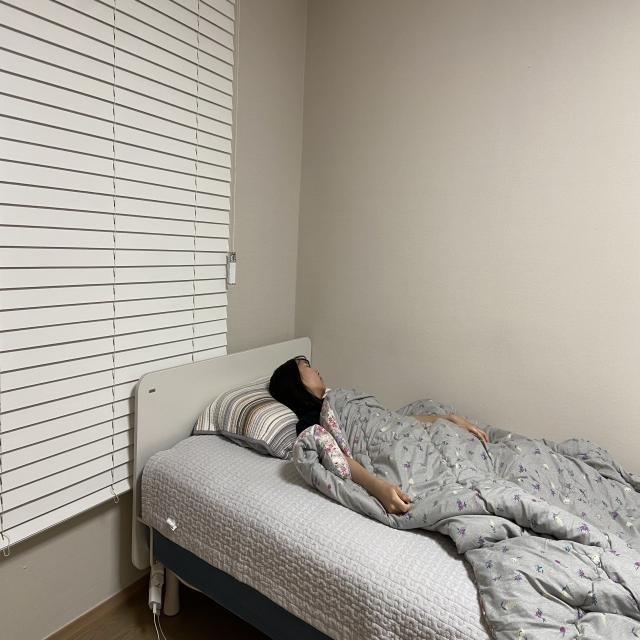sleeping-person: (223, 329, 639, 598)
